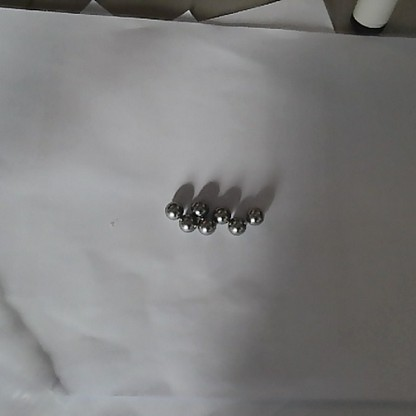ironball: (243, 203, 264, 225), (187, 196, 208, 217), (227, 211, 246, 234), (197, 215, 216, 237), (163, 199, 183, 219), (177, 214, 195, 233), (213, 208, 230, 224)
